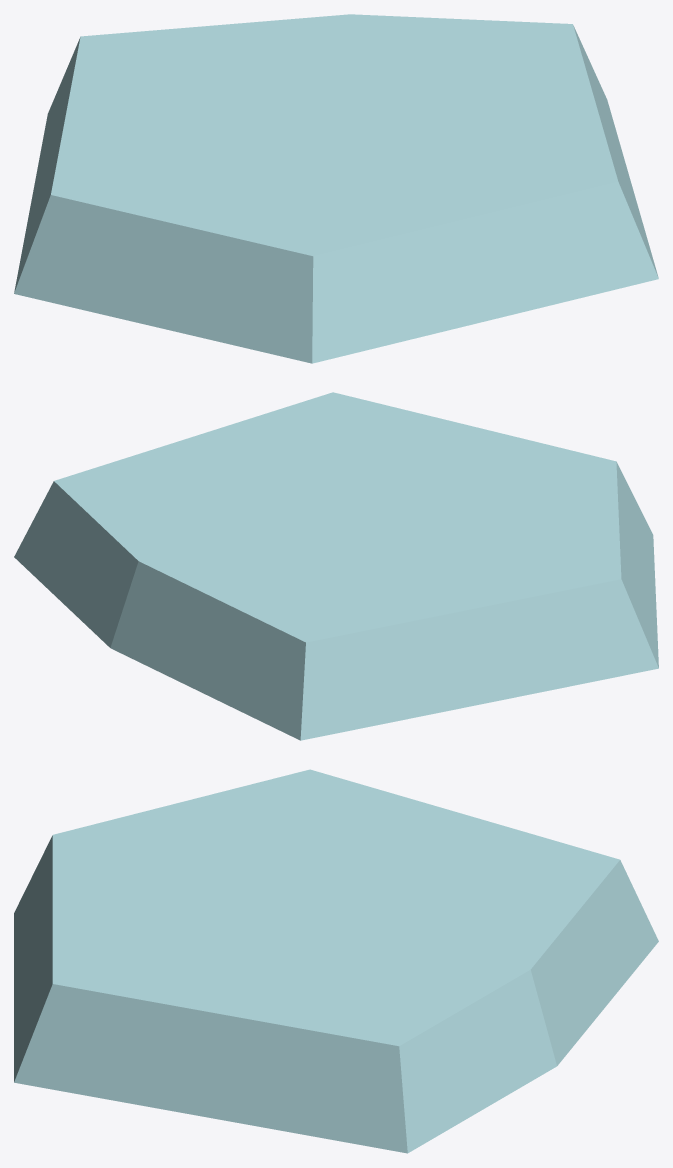
Rendered from stone_smallFlatA.dae.
3 views of the same model, one above another, from view 1: azimuth 30°, elevation 25°; view 2: azimuth 150°, elevation 25°; view 3: azimuth 270°, elevation 25° (orthographic). The views are drawn at different scales.
Parts seen in each view (by area): view 1: stone_smallFlatA; view 2: stone_smallFlatA; view 3: stone_smallFlatA.
Boxes of the visible parts, box(x1,y1,x2,y2) form: stone_smallFlatA: box(14, 14, 658, 363); stone_smallFlatA: box(14, 392, 658, 740); stone_smallFlatA: box(14, 769, 658, 1153).
Size of the model in its own units: 0.4958 by 0.0649 by 0.4296.
